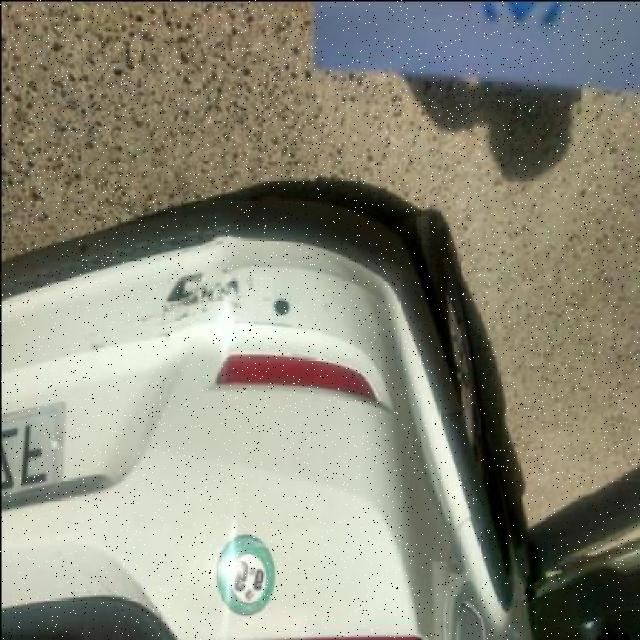damage: (147, 257, 254, 336), (252, 314, 310, 332), (84, 328, 113, 360)
